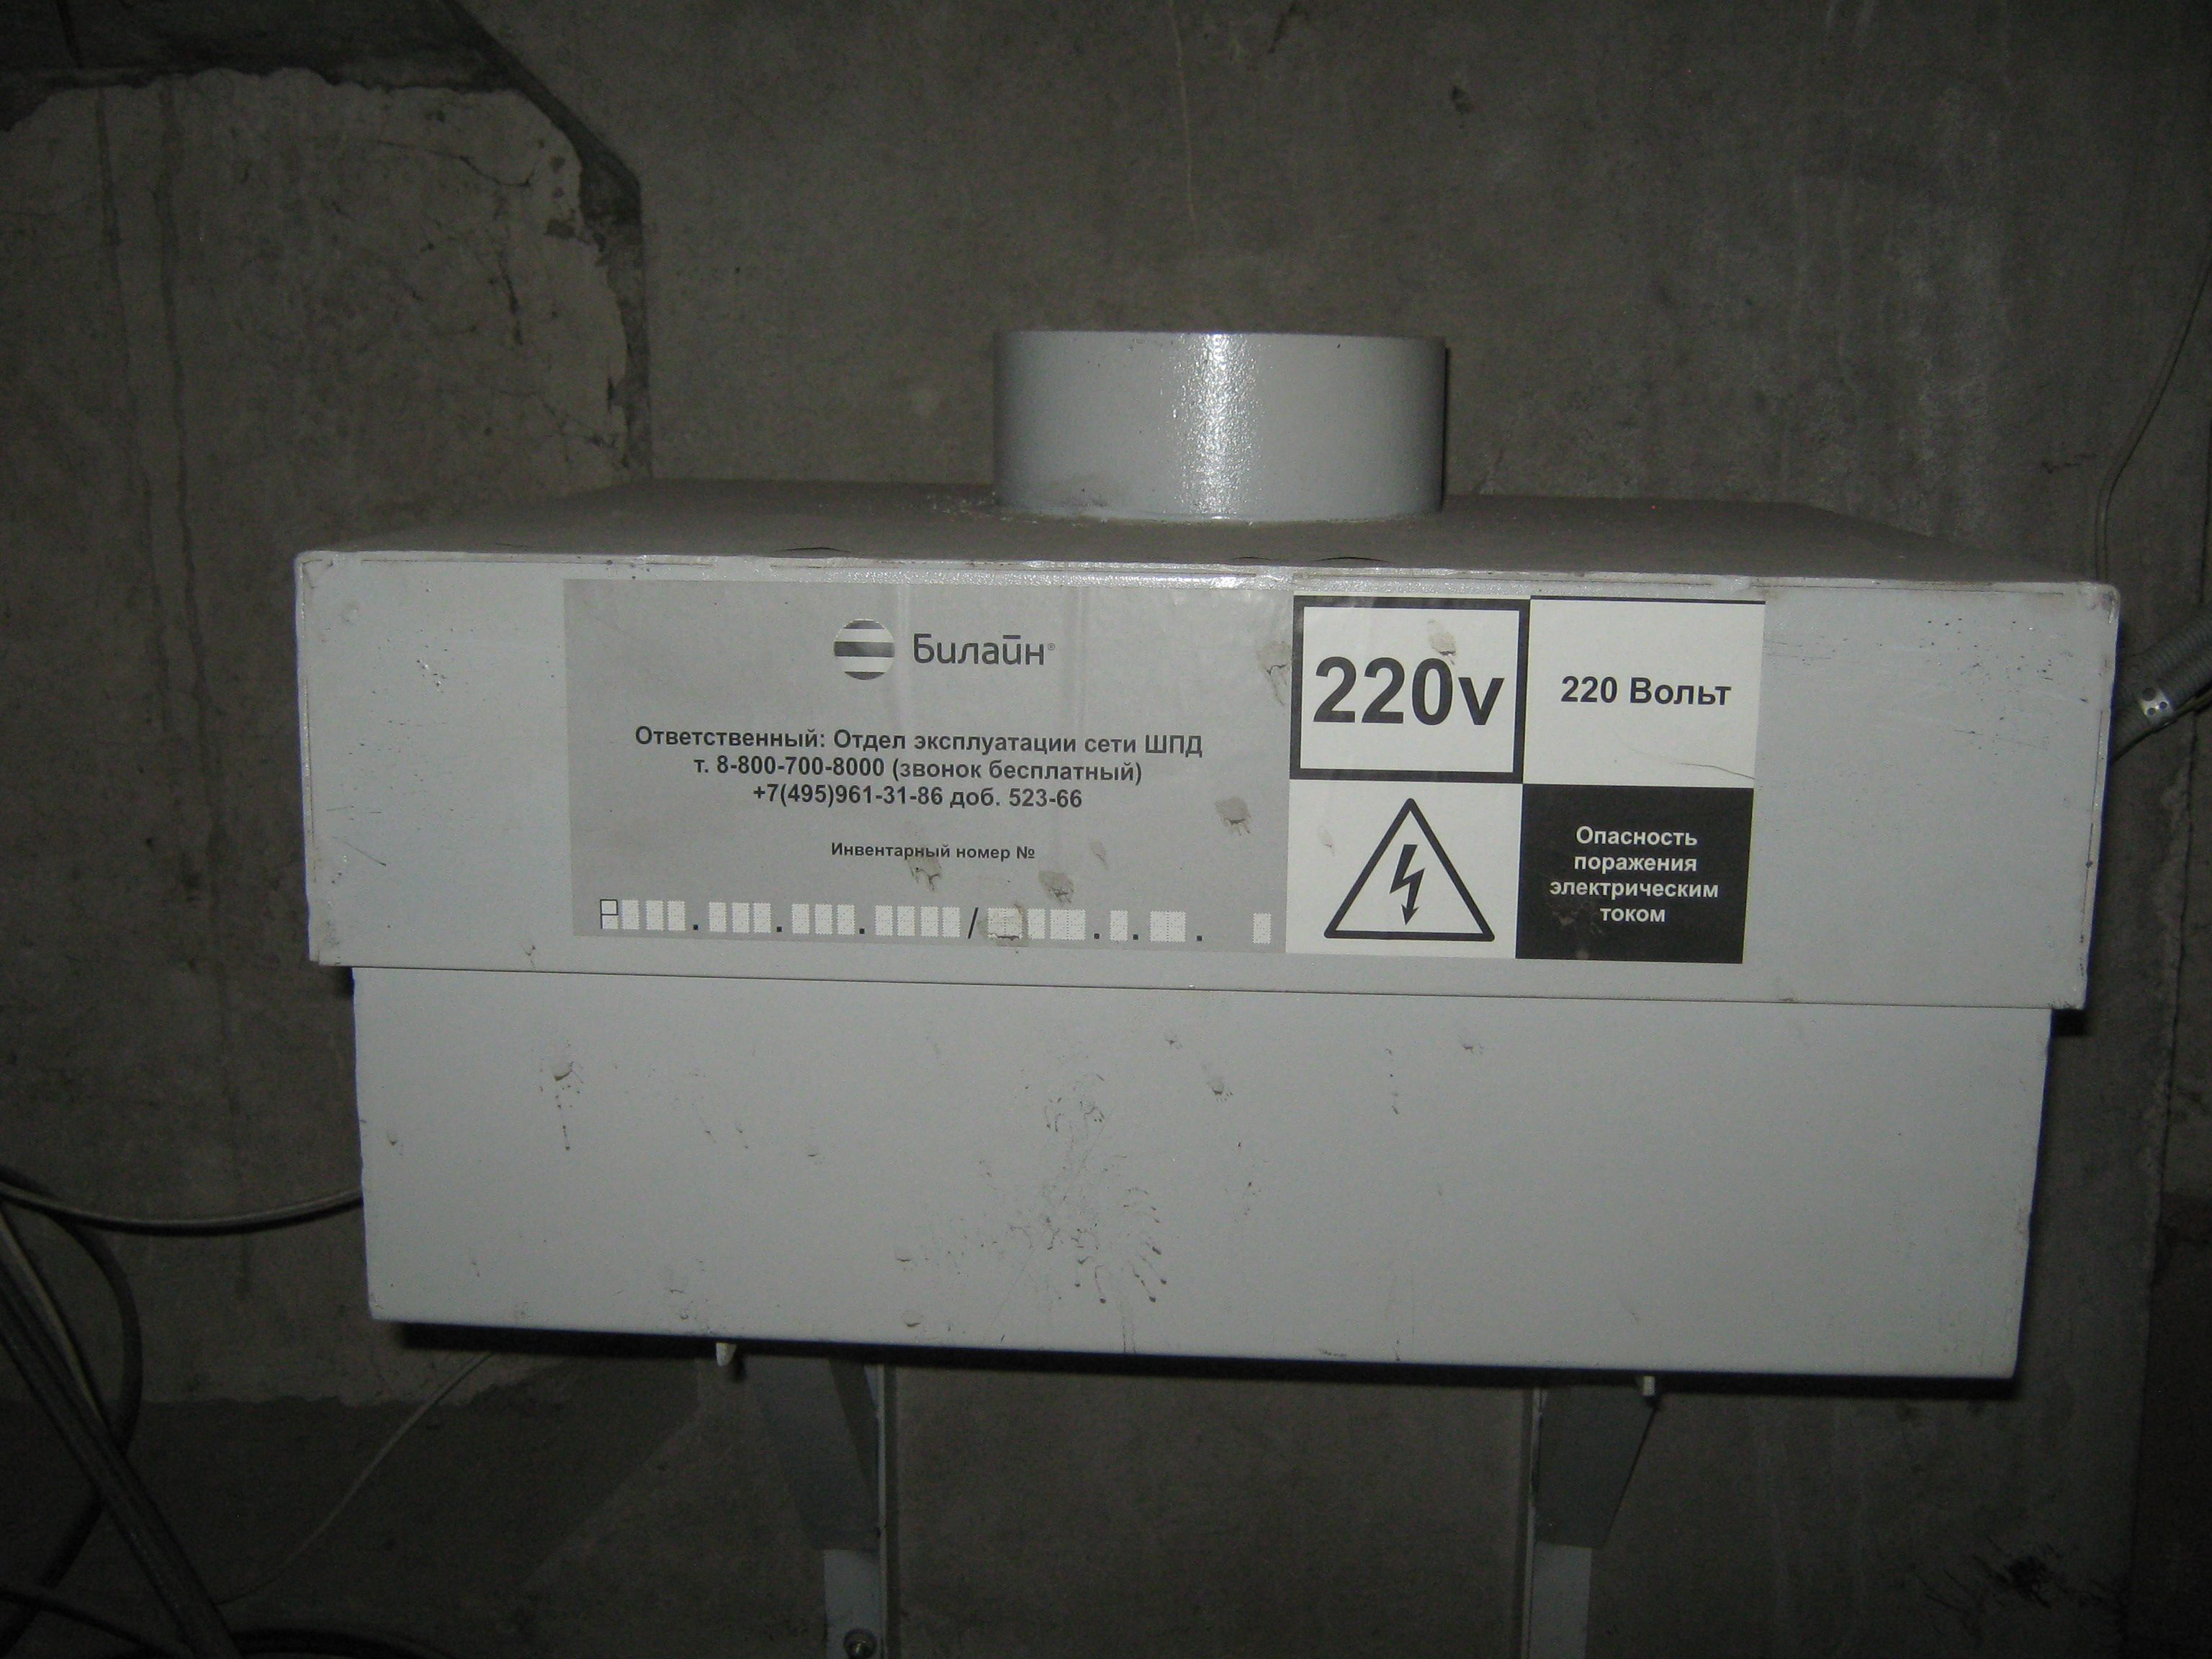shta-ps: (268, 303, 2153, 1406)
